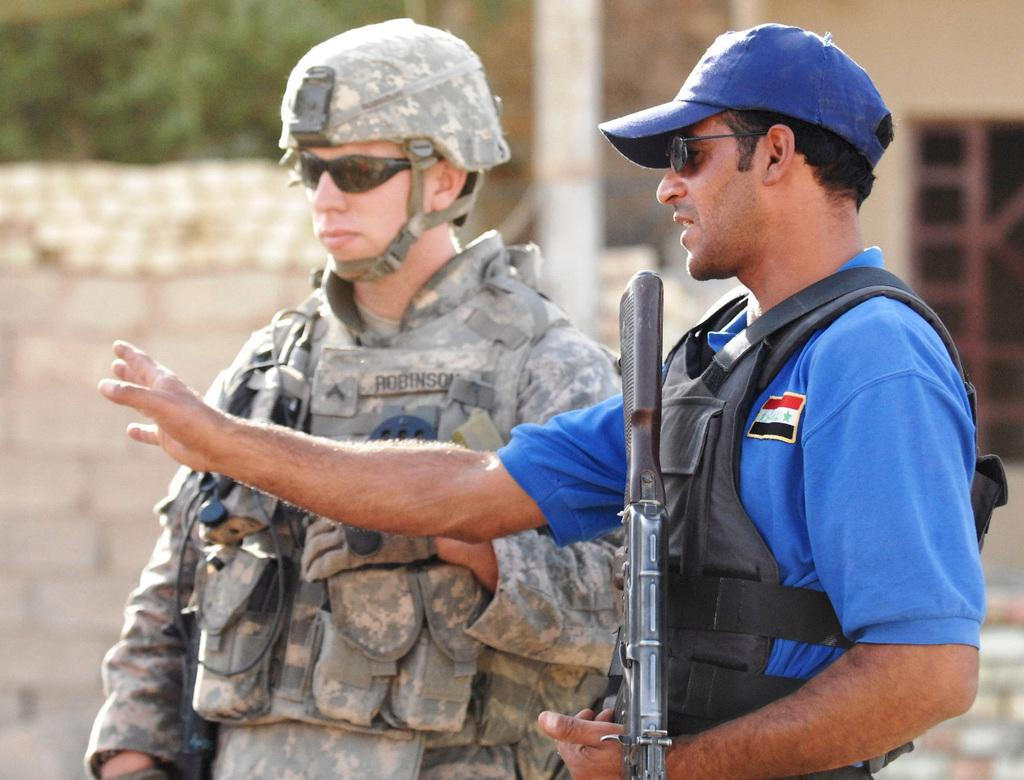Hat: (596, 20, 893, 170)
